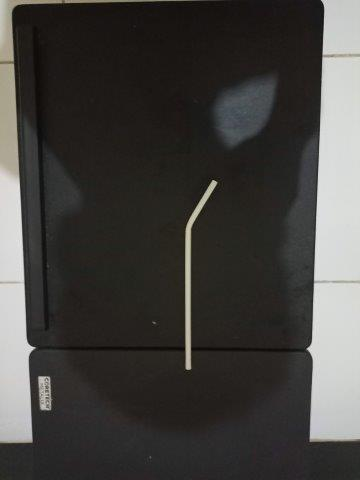sedotan: (185, 180, 218, 370)
